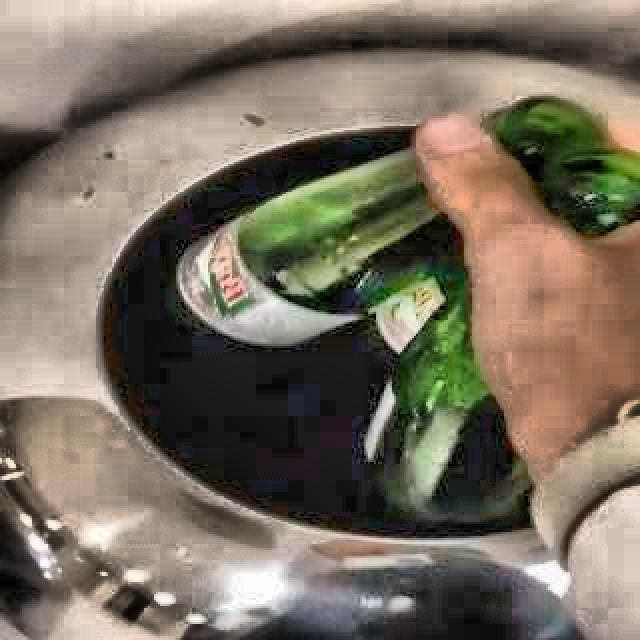glass: (176, 148, 531, 524), (488, 98, 640, 239)
